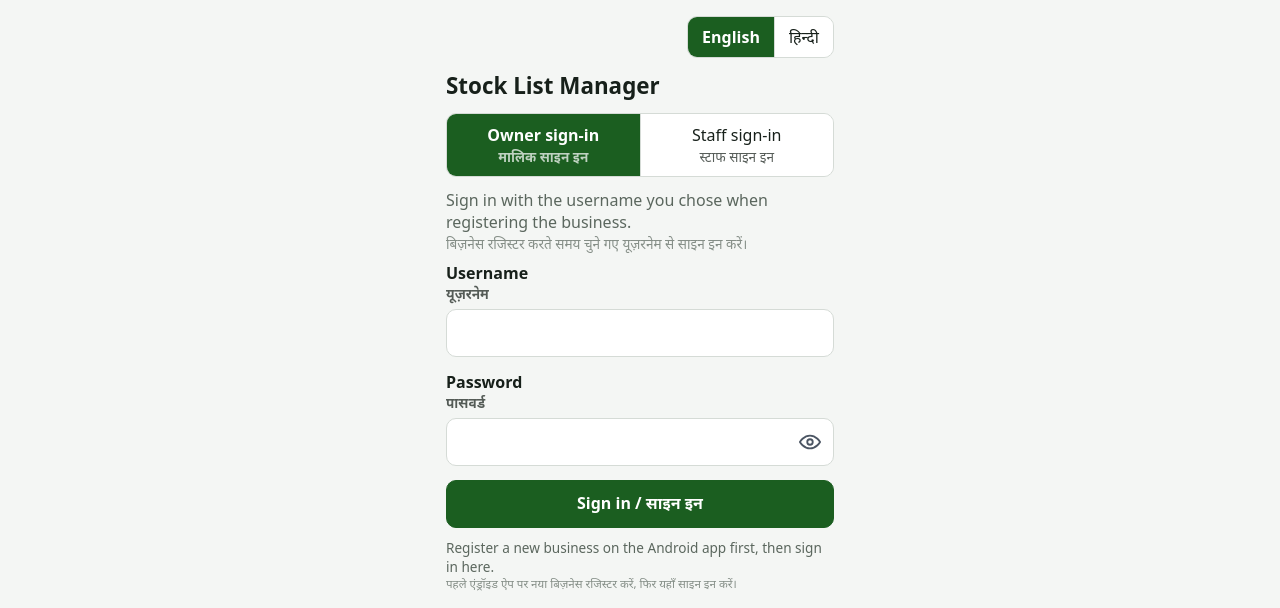
the app › signs in staff when Staff sign-in is chosen
Click the button "Staff sign-in स्टाफ साइन इन" at [736, 145], box [640, 114, 833, 176]
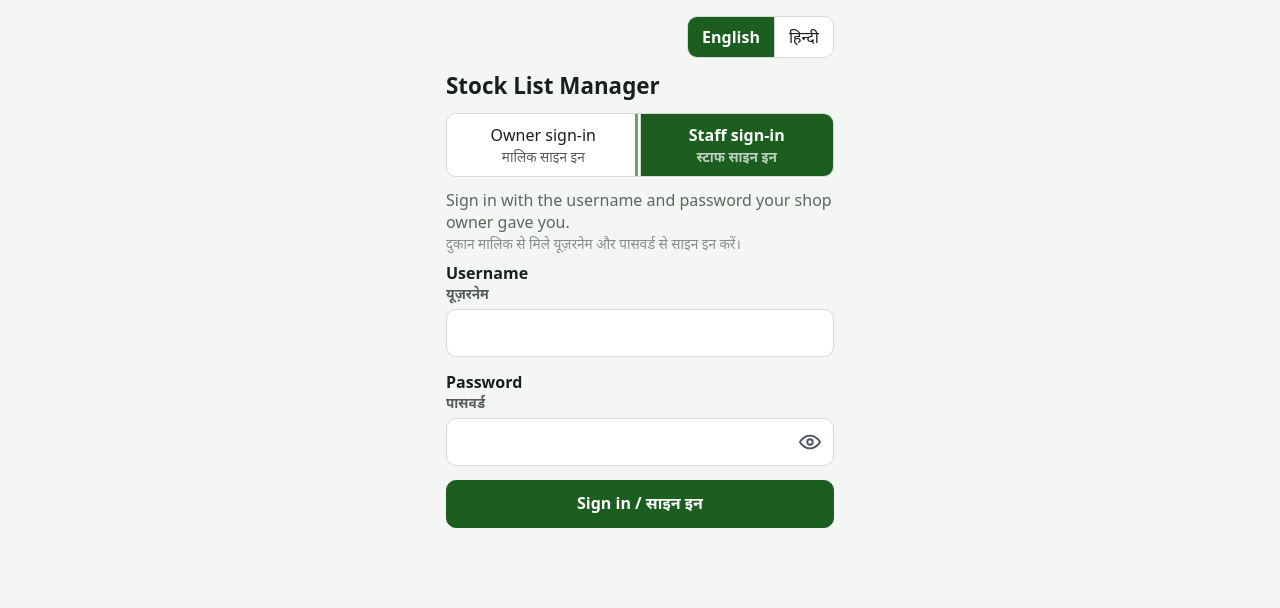
Type "ravi" into the field labelled "Username यूज़रनेम" at [640, 333], box [446, 309, 834, 357]
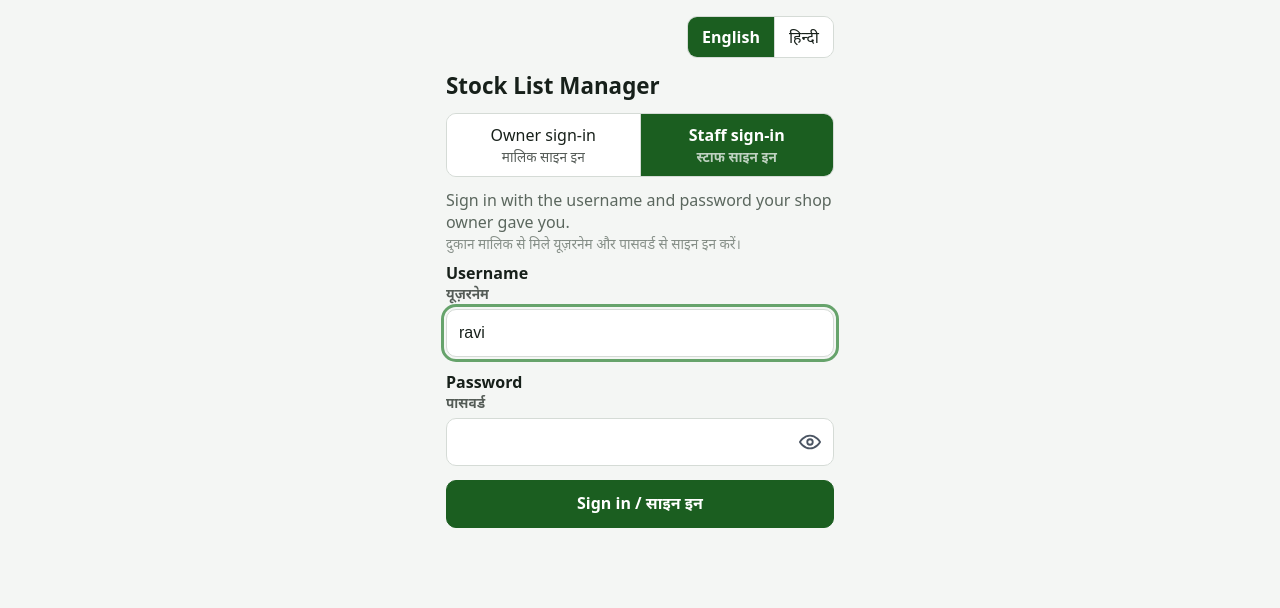
Type "secret-pass" into the password field labelled "Password पासवर्ड" at [640, 442], box [446, 418, 834, 466]
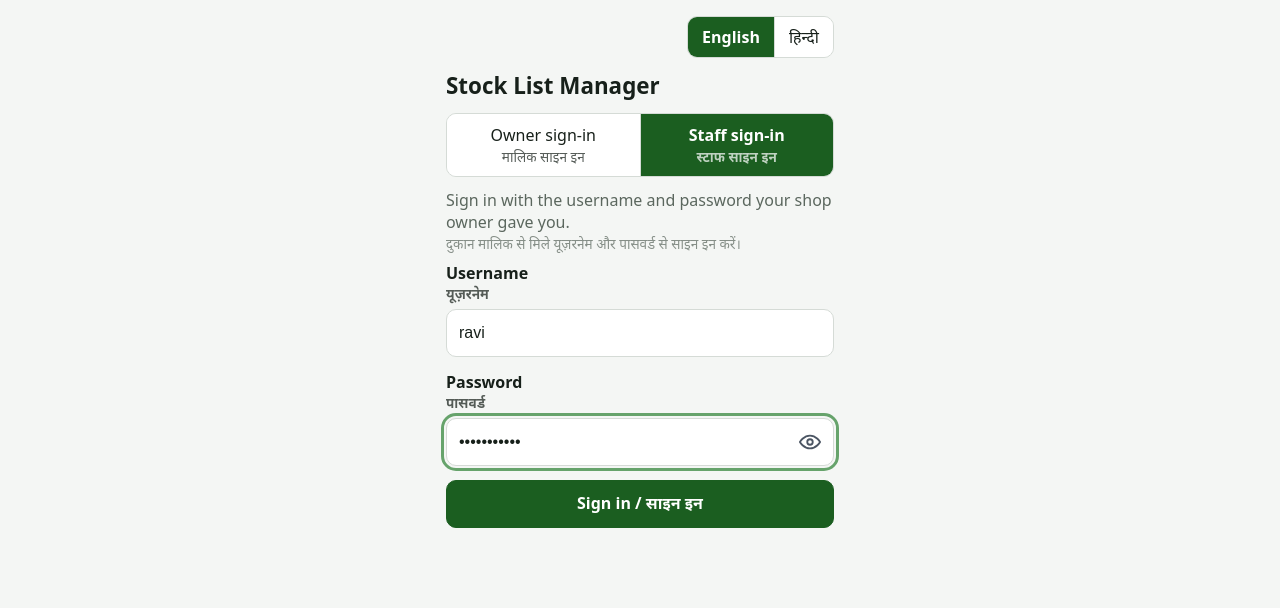
Click the button "Sign in / साइन इन" at [640, 504], box [446, 480, 834, 528]
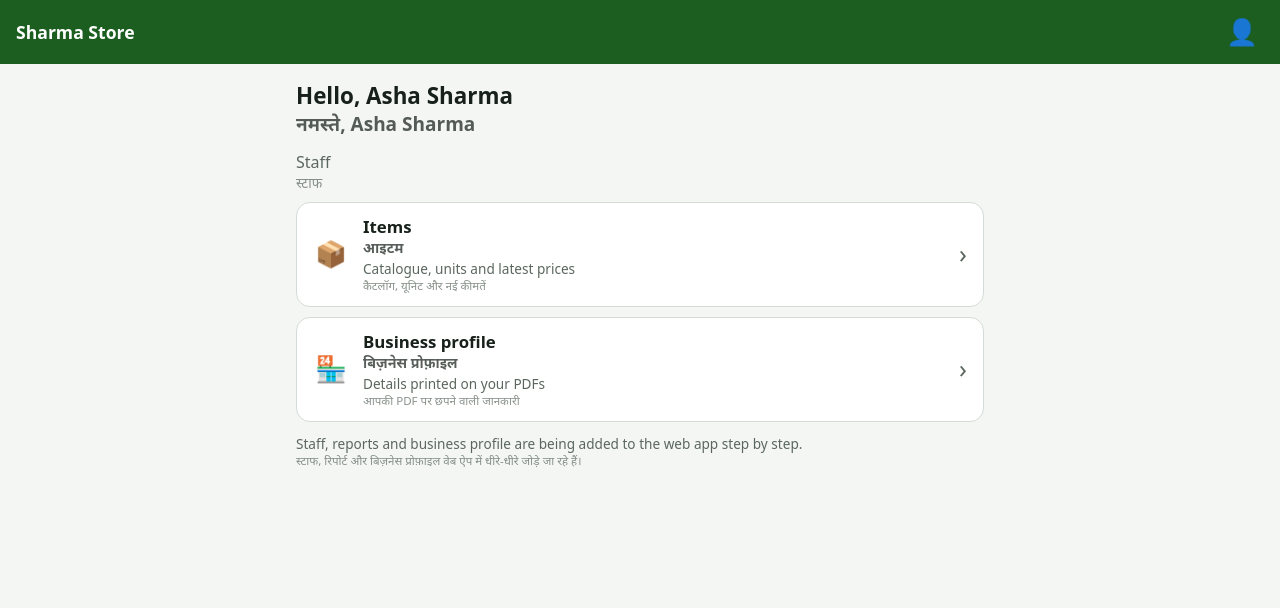
Check: the text "Hello, Asha Sharma" is shown, box [296, 80, 513, 111]
